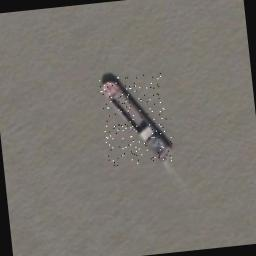boat: (99, 70, 174, 168)
